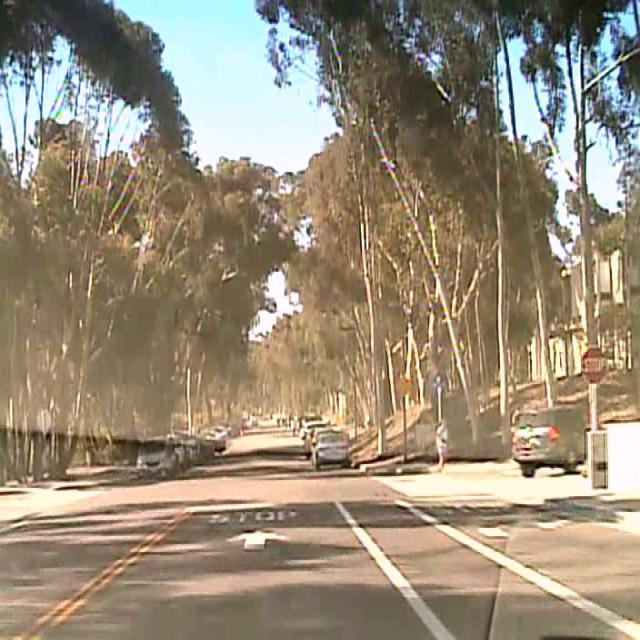stop: (580, 345, 605, 384)
